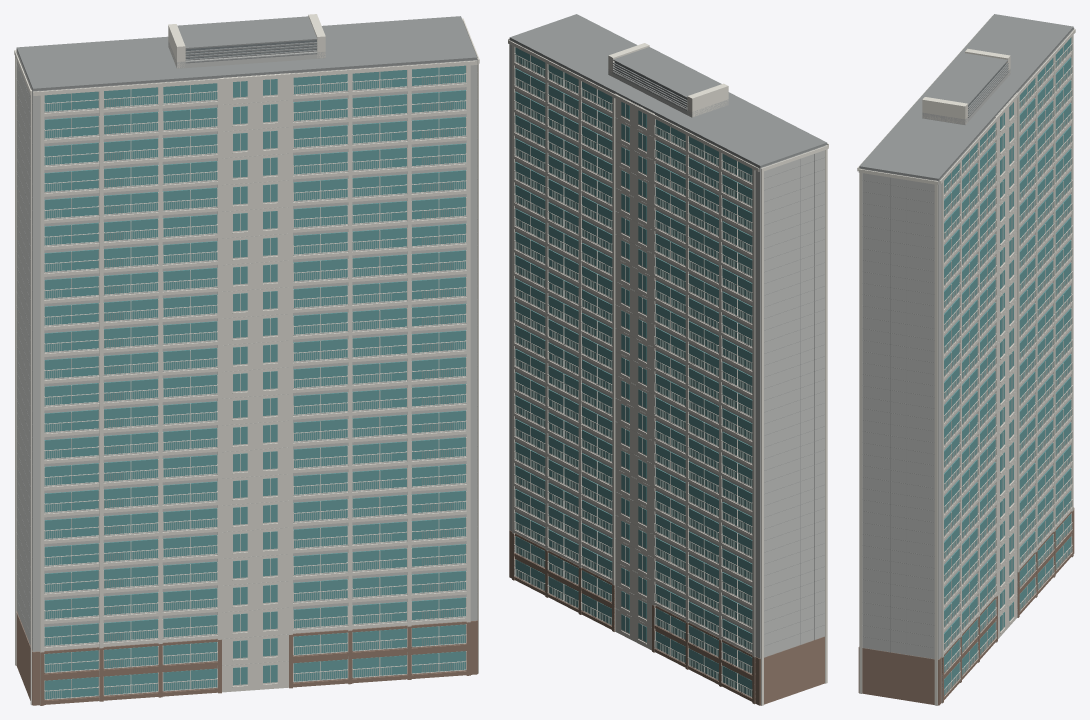
The model's file is bespoke-jamsil-els-149.glb.
The picture shows the model from 3 angles, left to right: view 1: azimuth 30°, elevation 25°; view 2: azimuth 150°, elevation 25°; view 3: azimuth 270°, elevation 25°; orthographic projection. The views are drawn at different scales.
Parts seen in each view (by area): view 1: Els149_editable_Els149_turquoise_balcony_glazing, Els149_editable_Els149_light_grey_solid_wall, Els149_white_exact_chunk_2, Els149_white_exact_chunk_3, Els149_white_exact_chunk_4, Els149_editable_Els149_modest_grey_flat_roof_caps, Els149_editable_Els149_muted_ground_wall, Els149_editable_Els149_narrow_charcoal_service_strips; view 2: Els149_editable_Els149_turquoise_balcony_glazing, Els149_editable_Els149_light_grey_solid_wall, Els149_white_exact_chunk_0, Els149_white_exact_chunk_1, Els149_white_exact_chunk_2, Els149_editable_Els149_modest_grey_flat_roof_caps, Els149_editable_Els149_muted_ground_wall, Els149_white_exact_chunk_4; view 3: Els149_editable_Els149_light_grey_solid_wall, Els149_editable_Els149_turquoise_balcony_glazing, Els149_white_exact_chunk_0, Els149_white_exact_chunk_1, Els149_editable_Els149_modest_grey_flat_roof_caps, Els149_white_exact_chunk_2, Els149_white_exact_chunk_4, Els149_editable_Els149_muted_ground_wall.
Part boxes in pixels (x1,y1,x2,y2): Els149_editable_Els149_turquoise_balcony_glazing: (44, 65, 466, 699); Els149_editable_Els149_light_grey_solid_wall: (16, 40, 477, 665); Els149_white_exact_chunk_2: (14, 49, 290, 705); Els149_white_exact_chunk_3: (40, 78, 348, 705); Els149_white_exact_chunk_4: (33, 14, 479, 683); Els149_editable_Els149_modest_grey_flat_roof_caps: (16, 16, 477, 651); Els149_editable_Els149_muted_ground_wall: (16, 611, 477, 705); Els149_editable_Els149_narrow_charcoal_service_strips: (185, 40, 316, 58); Els149_editable_Els149_turquoise_balcony_glazing: (515, 47, 752, 696); Els149_editable_Els149_light_grey_solid_wall: (509, 40, 826, 658); Els149_white_exact_chunk_0: (514, 47, 654, 650); Els149_white_exact_chunk_1: (512, 42, 718, 680); Els149_white_exact_chunk_2: (508, 40, 828, 705); Els149_editable_Els149_modest_grey_flat_roof_caps: (509, 14, 827, 657); Els149_editable_Els149_muted_ground_wall: (509, 530, 824, 705); Els149_white_exact_chunk_4: (508, 38, 828, 529); Els149_editable_Els149_light_grey_solid_wall: (859, 29, 1073, 659); Els149_editable_Els149_turquoise_balcony_glazing: (944, 37, 1071, 695); Els149_white_exact_chunk_0: (944, 92, 1017, 696); Els149_white_exact_chunk_1: (941, 77, 1054, 702); Els149_editable_Els149_modest_grey_flat_roof_caps: (859, 14, 1073, 659); Els149_white_exact_chunk_2: (939, 28, 1075, 617); Els149_white_exact_chunk_4: (857, 16, 1010, 705); Els149_editable_Els149_muted_ground_wall: (858, 507, 1074, 705).
Bounding box in the file's own units: 42.81 × 65.4 × 23.73.
